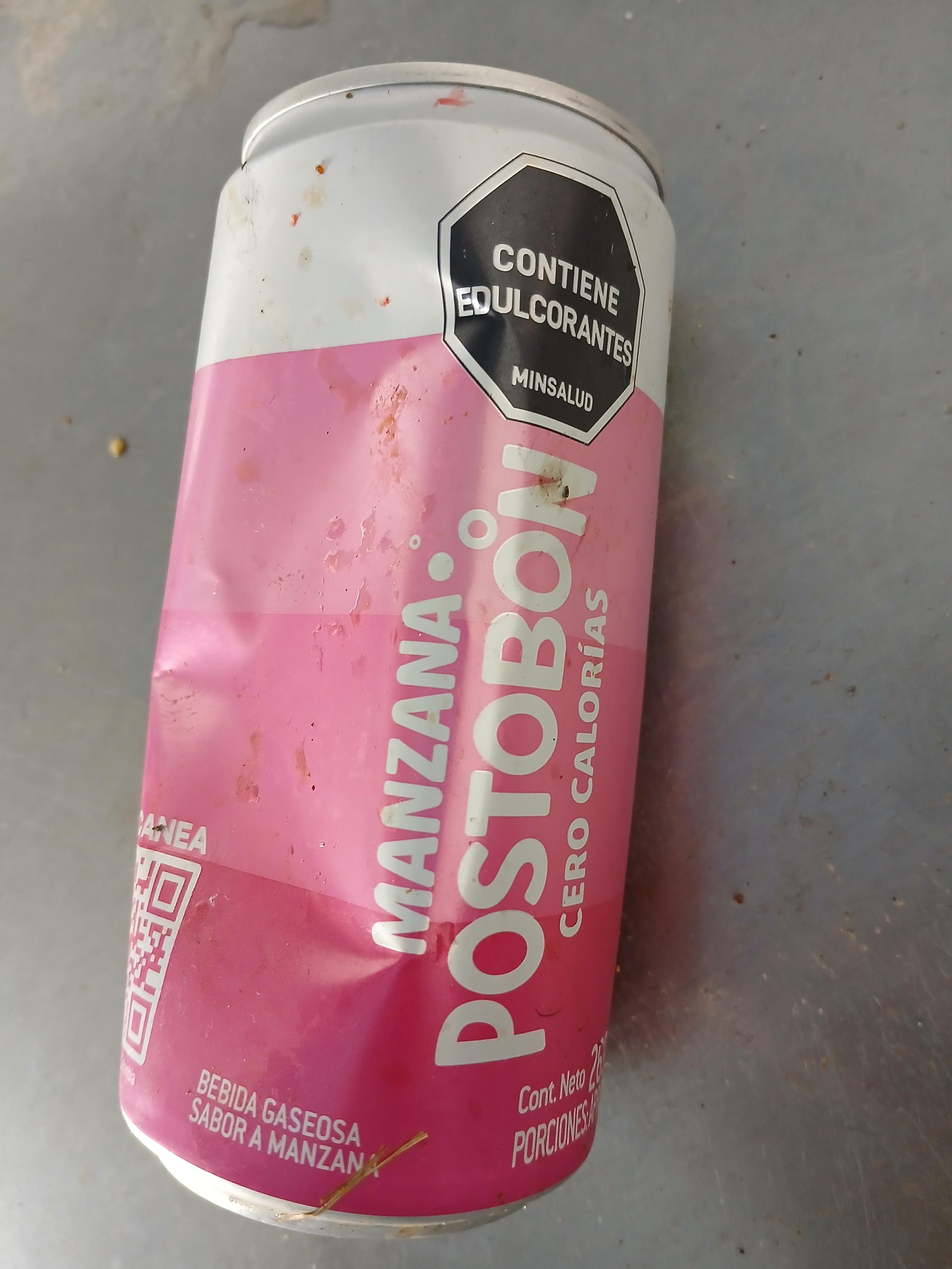Metal: (120, 62, 674, 1239)
